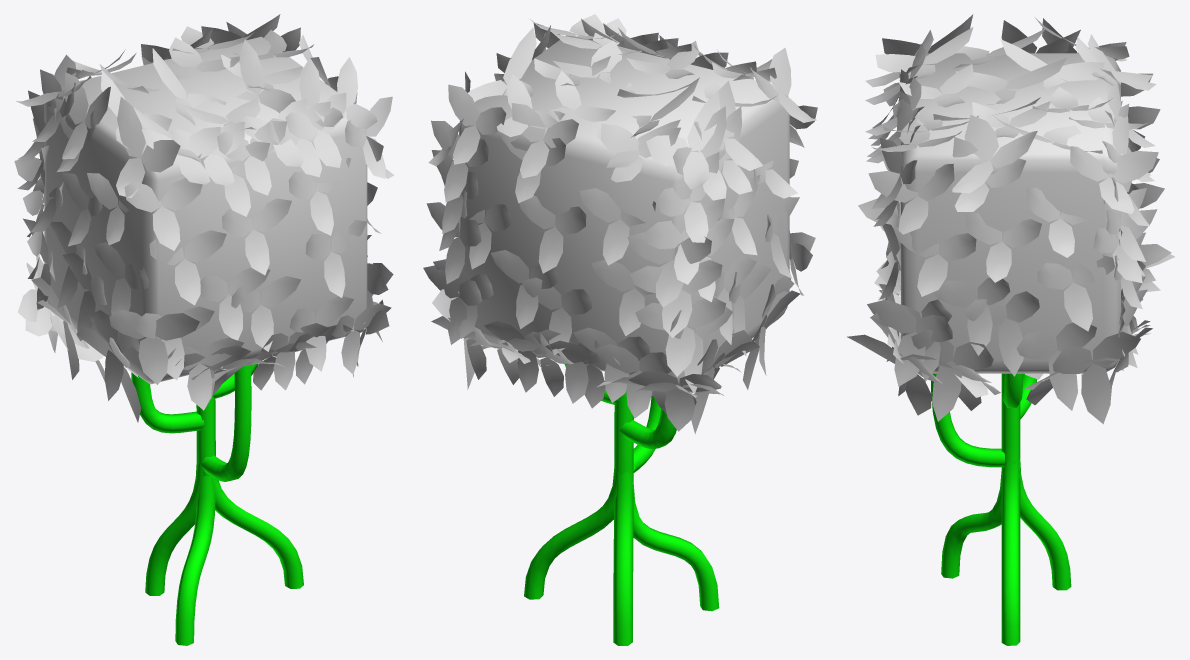
File: FBX_Tree_01.fbx
3 views of the same model, side by side, from view 1: azimuth 30°, elevation 25°; view 2: azimuth 150°, elevation 25°; view 3: azimuth 270°, elevation 25° (orthographic). The views are drawn at different scales.
Parts seen in each view (by area): view 1: Bush, BezierCurve.001, Bush|Plane|Dupli|206, Bush|Plane|Dupli|203, Bush|Plane|Dupli|7, Bush|Plane|Dupli|5, Bush|Plane|Dupli|9, Bush|Plane|Dupli|, Bush|Plane|Dupli|2, Bush|Plane|Dupli|249, Bush|Plane|Dupli|8, Bush|Plane|Dupli|205 (+44 smaller); view 2: Bush, BezierCurve.001, Bush|Plane|Dupli|204, Bush|Plane|Dupli|211, Bush|Plane|Dupli|209, Bush|Plane|Dupli|135, Bush|Plane|Dupli|225, Bush|Plane|Dupli|224, Bush|Plane|Dupli|208, Bush|Plane|Dupli|141, Bush|Plane|Dupli|217, Bush|Plane|Dupli|142 (+47 smaller); view 3: Bush, BezierCurve.001, Bush|Plane|Dupli|234, Bush|Plane|Dupli|237, Bush|Plane|Dupli|226, Bush|Plane|Dupli|233, Bush|Plane|Dupli|235, Bush|Plane|Dupli|56, Bush|Plane|Dupli|62, Bush|Plane|Dupli|57, Bush|Plane|Dupli|58, Bush|Plane|Dupli|60 (+36 smaller).
Part boxes in pixels (box(x1,y1,x2,y2)): Bush: box(44, 36, 367, 384); BezierCurve.001: box(131, 364, 303, 645); Bush|Plane|Dupli|206: box(116, 97, 180, 198); Bush|Plane|Dupli|203: box(109, 310, 199, 384); Bush|Plane|Dupli|7: box(124, 178, 202, 250); Bush|Plane|Dupli|5: box(222, 198, 291, 275); Bush|Plane|Dupli|9: box(149, 230, 226, 305); Bush|Plane|Dupli|: box(200, 267, 270, 340); Bush|Plane|Dupli|2: box(231, 276, 300, 351); Bush|Plane|Dupli|249: box(217, 121, 286, 195); Bush|Plane|Dupli|8: box(305, 219, 366, 297); Bush|Plane|Dupli|205: box(62, 72, 110, 159); Bush: box(459, 35, 789, 384); BezierCurve.001: box(524, 364, 719, 645); Bush|Plane|Dupli|204: box(646, 92, 720, 189); Bush|Plane|Dupli|211: box(635, 297, 726, 376); Bush|Plane|Dupli|209: box(630, 260, 722, 337); Bush|Plane|Dupli|135: box(519, 195, 586, 273); Bush|Plane|Dupli|225: box(511, 103, 578, 178); Bush|Plane|Dupli|224: box(448, 84, 506, 164); Bush|Plane|Dupli|208: box(627, 232, 711, 307); Bush|Plane|Dupli|141: box(579, 188, 655, 265); Bush|Plane|Dupli|217: box(594, 344, 671, 418); Bush|Plane|Dupli|142: box(521, 277, 591, 355); Bush: box(901, 53, 1120, 373); BezierCurve.001: box(931, 373, 1071, 645); Bush|Plane|Dupli|234: box(1052, 332, 1140, 424); Bush|Plane|Dupli|237: box(867, 299, 952, 386); Bush|Plane|Dupli|226: box(1070, 146, 1158, 214); Bush|Plane|Dupli|233: box(911, 329, 993, 421); Bush|Plane|Dupli|235: box(952, 115, 1037, 193); Bush|Plane|Dupli|56: box(1016, 322, 1096, 410); Bush|Plane|Dupli|62: box(963, 291, 1039, 376); Bush|Plane|Dupli|57: box(868, 163, 954, 234); Bush|Plane|Dupli|58: box(1037, 255, 1118, 331); Bush|Plane|Dupli|60: box(933, 277, 1010, 355).
Bounding box in the file's own units: 386 × 372 × 695.
